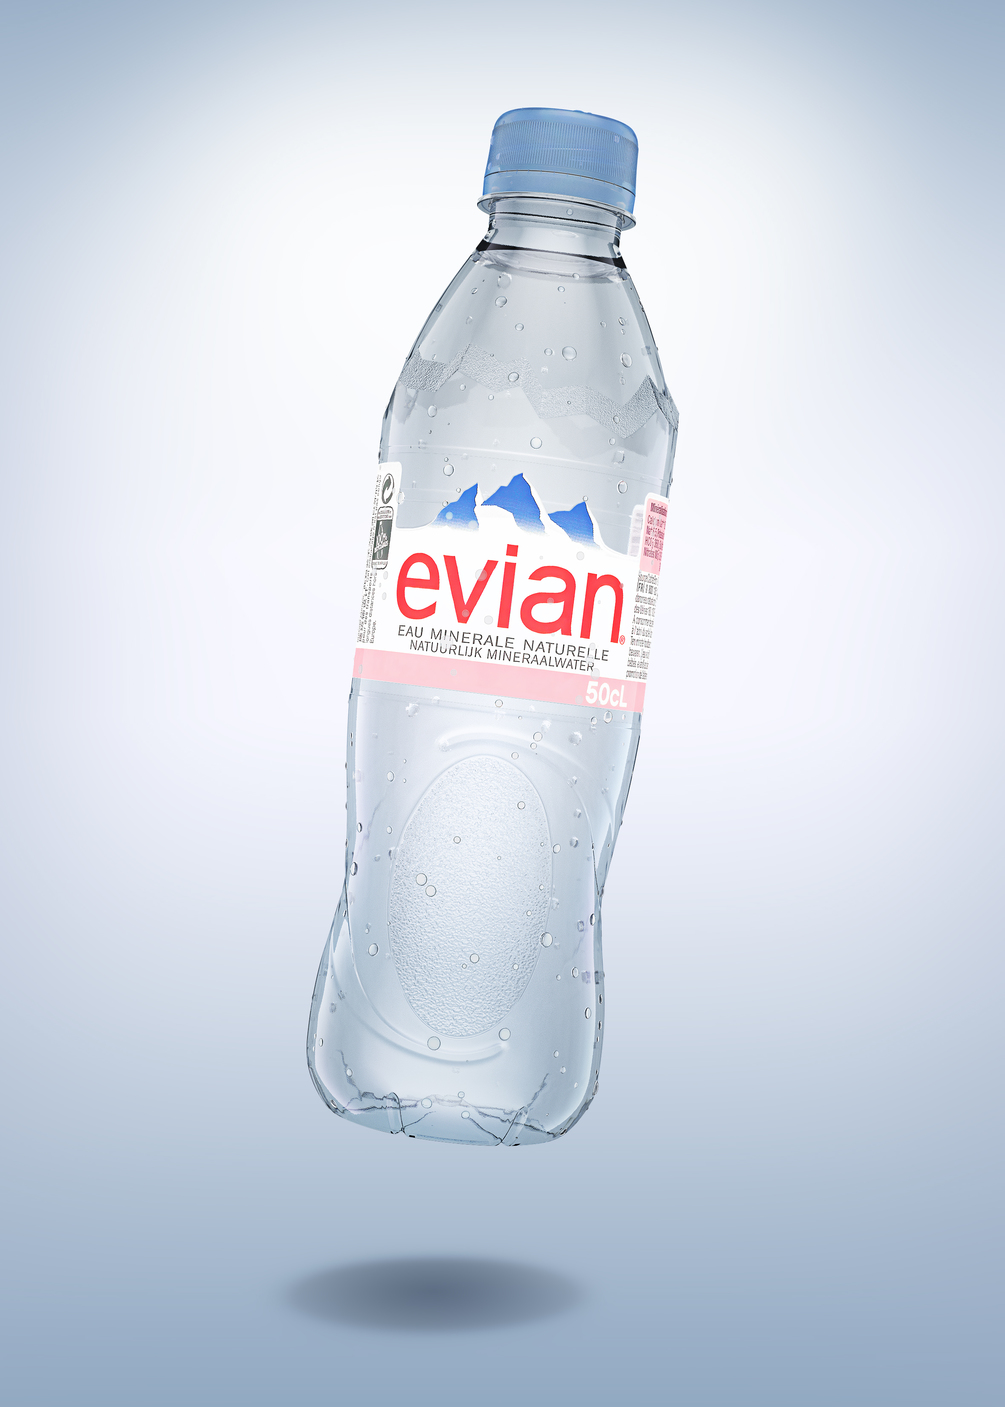bottle: (266, 51, 736, 1194)
